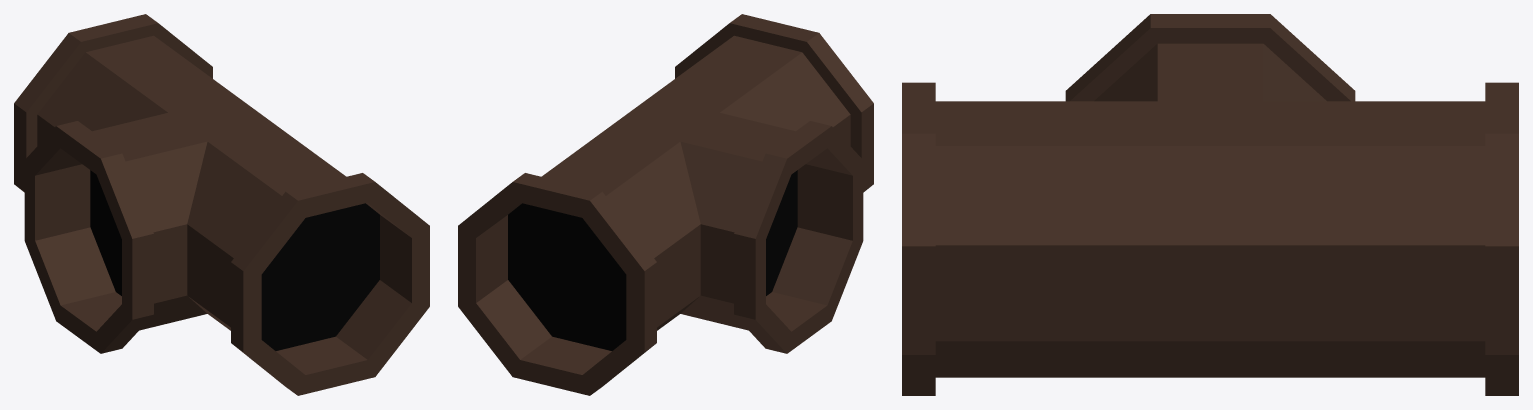
The model's file is 3Way.fbx.
3 views of the same model, side by side, from view 1: azimuth 30°, elevation 25°; view 2: azimuth 150°, elevation 25°; view 3: azimuth 270°, elevation 25° (orthographic). The views are drawn at different scales.
Parts seen in each view (by area): view 1: Cylinder.007; view 2: Cylinder.007; view 3: Cylinder.007.
Part boxes in pixels (x1,y1,x2,y2): Cylinder.007: (14,14,429,395); Cylinder.007: (458,14,873,395); Cylinder.007: (902,14,1518,395).
Size of the model in its own units: 46.59 by 36.71 by 78.19.
